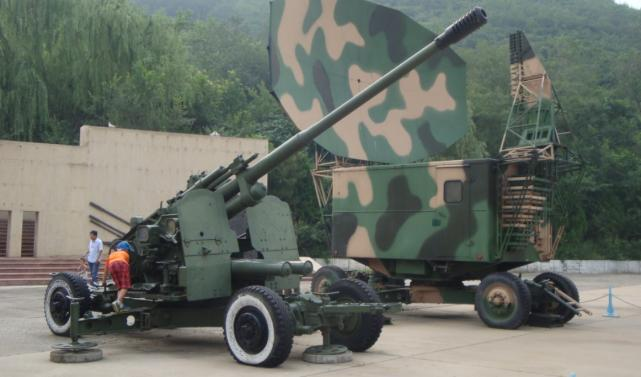MIL_SPG: (45, 10, 486, 366)
